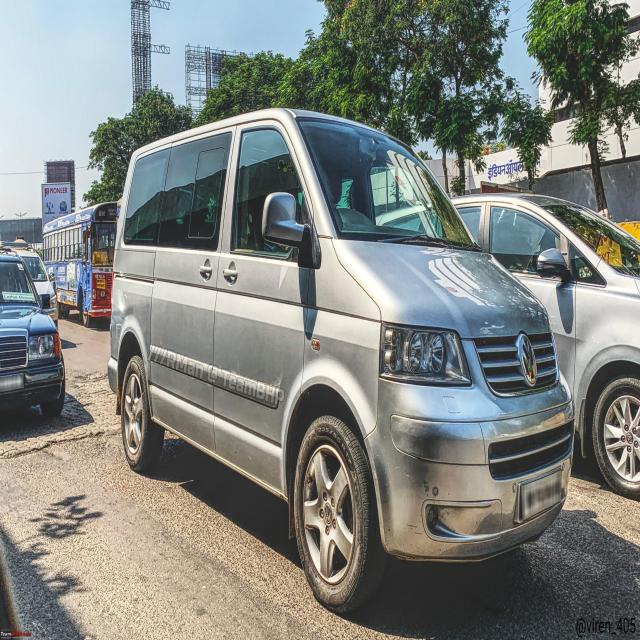bus: (42, 202, 118, 327)
car: (108, 109, 574, 611), (454, 193, 640, 496), (0, 251, 65, 418)
